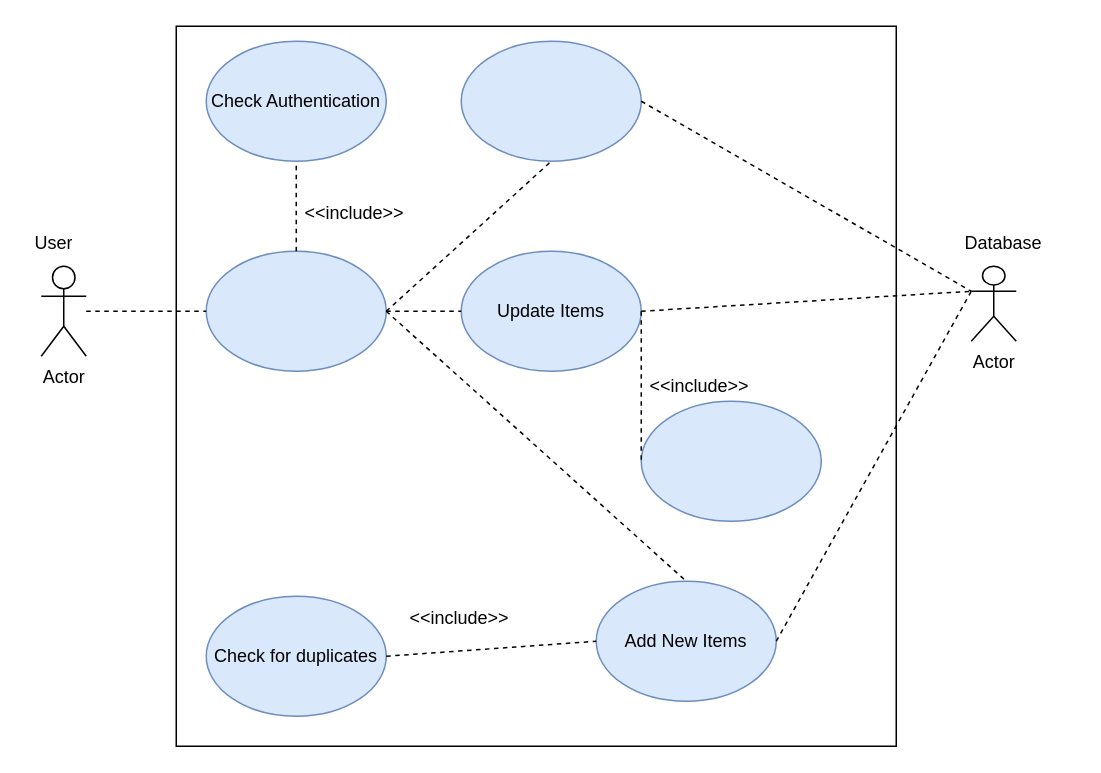
Some shapes in this 1101 by 773 pixel diagram are drawn without their labels. Here are the shapes that lost their labels. From the top down, the box of each, then its label:
(460, 40, 641, 161): Check Inventory Status
(205, 250, 386, 371): Sign In
(640, 400, 821, 521): Check for invalid operations
